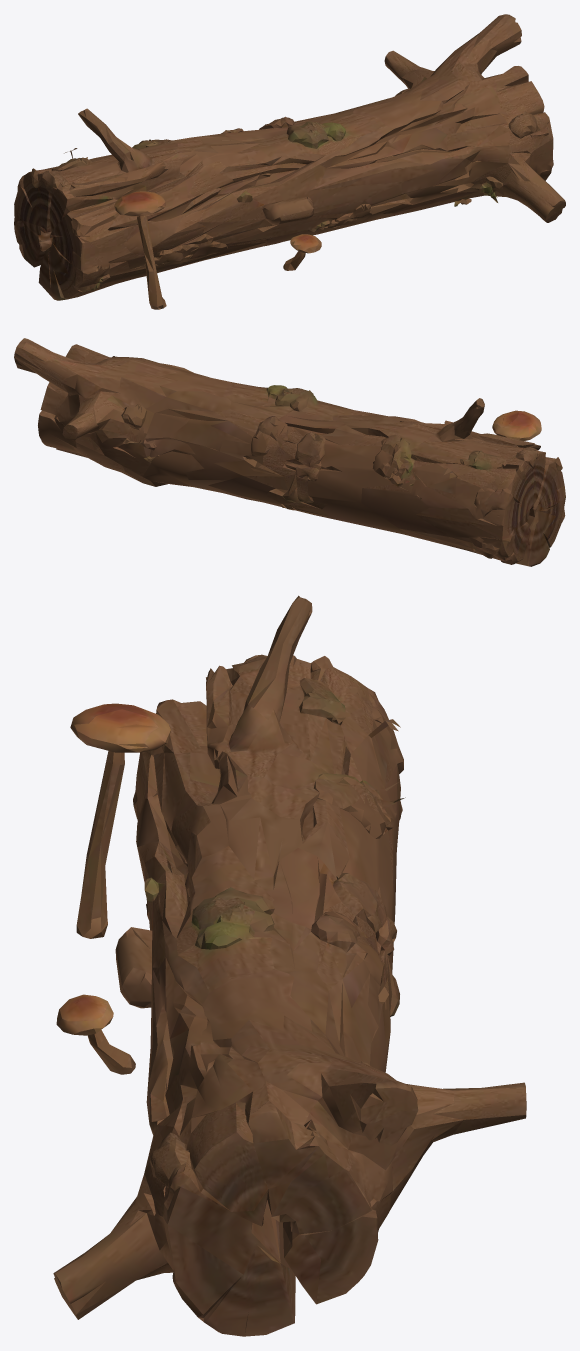
File: scene_mossy_log.glb
3 views of the same model, one above another, from view 1: azimuth 30°, elevation 25°; view 2: azimuth 150°, elevation 25°; view 3: azimuth 270°, elevation 25° (orthographic). The views are drawn at different scales.
Size of the model in its own units: 1.9 by 0.6137 by 0.793.
1 material, 1 textured.
